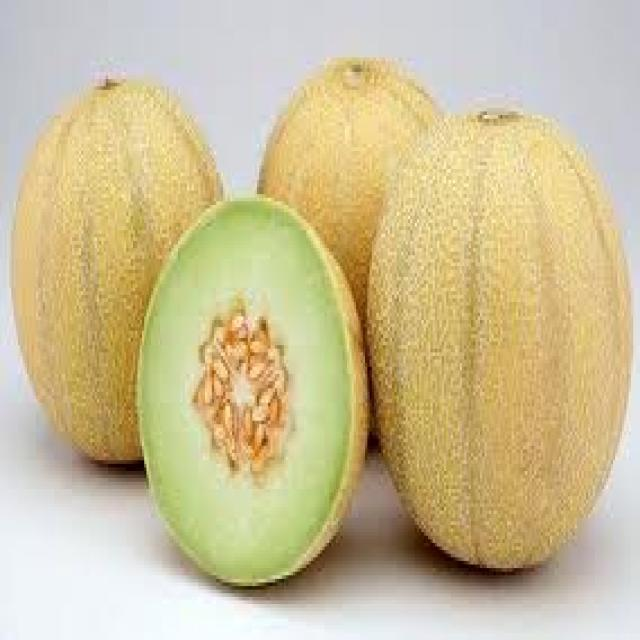melon: (5, 26, 638, 636)
